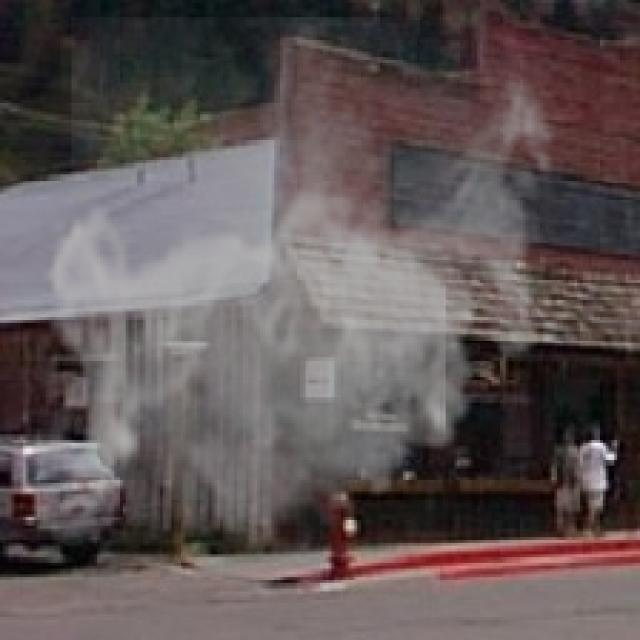smoke: (37, 17, 572, 572)
